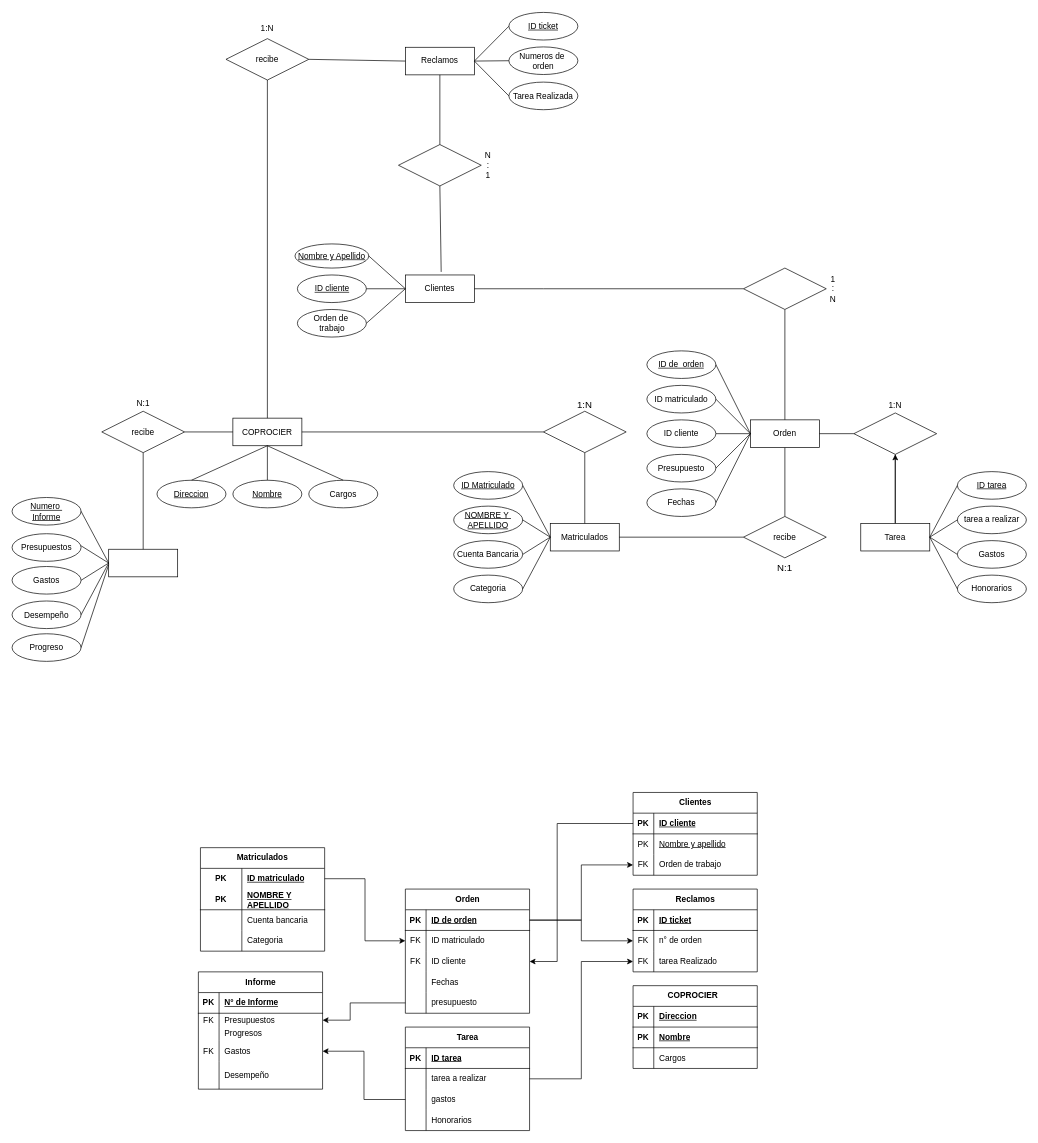
Some shapes in this 1038 by 1143 pixel diagram are drawn without their labels. Here are the shapes that lost their labels. From the top down, the centre of each, then its label:
point 439,165: emite
point 784,288: genera
point 584,432: pertenece
point 895,433: Incluye
point 143,563: Informes
